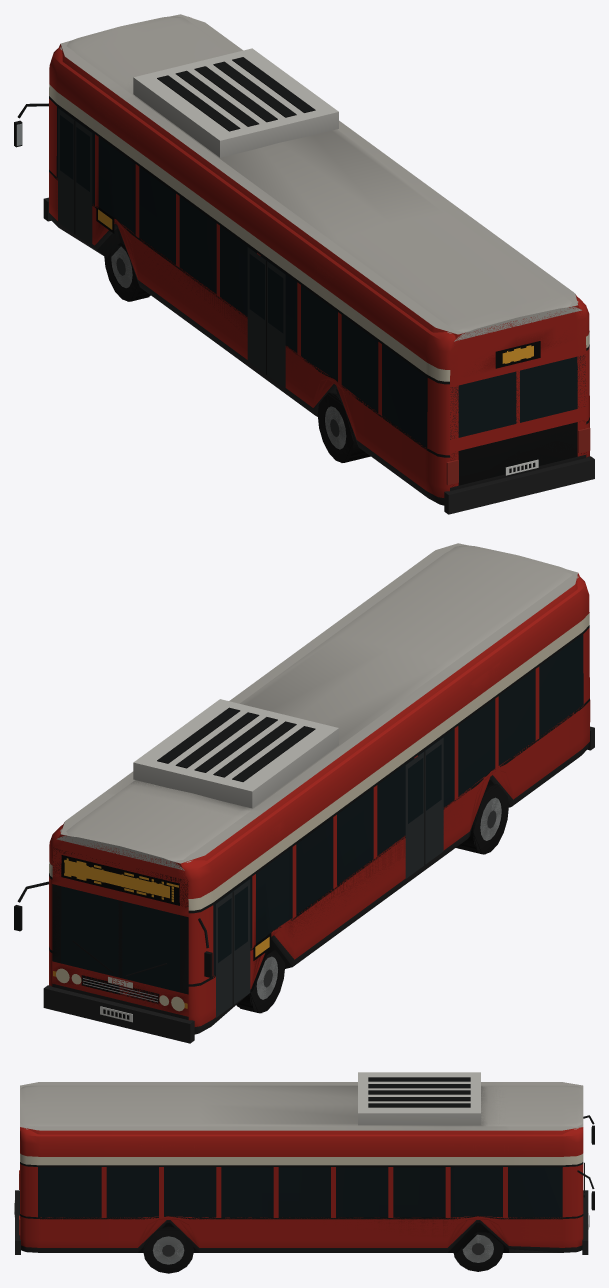
The model's file is bus-single.glb.
The picture shows the model from 3 angles, top to bottom: view 1: azimuth 30°, elevation 25°; view 2: azimuth 150°, elevation 25°; view 3: azimuth 270°, elevation 25°; orthographic projection. The views are drawn at different scales.
Visible parts, largest first — view 1: near, far, distant; view 2: near, far, distant; view 3: near, distant, far.
Boxes of the visible parts, left/top/right/bottom form: near: left=14, top=16, right=594, bottom=514; far: left=18, top=19, right=586, bottom=489; distant: left=59, top=14, right=586, bottom=487; near: left=14, top=545, right=594, bottom=1043; far: left=18, top=553, right=583, bottom=1019; distant: left=52, top=543, right=579, bottom=1015; near: left=14, top=1072, right=594, bottom=1273; distant: left=20, top=1082, right=583, bottom=1264; far: left=20, top=1085, right=594, bottom=1263.
Size of the model in its own units: 3.14 by 3.33 by 11.35.
